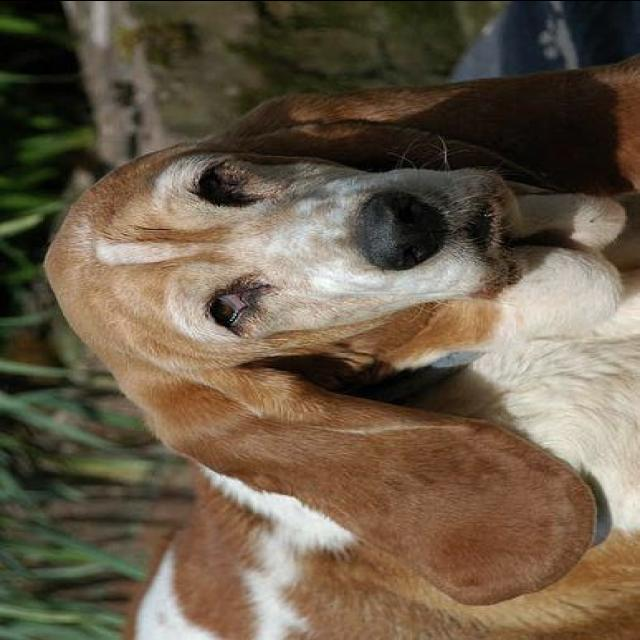basset: (42, 64, 638, 638)
